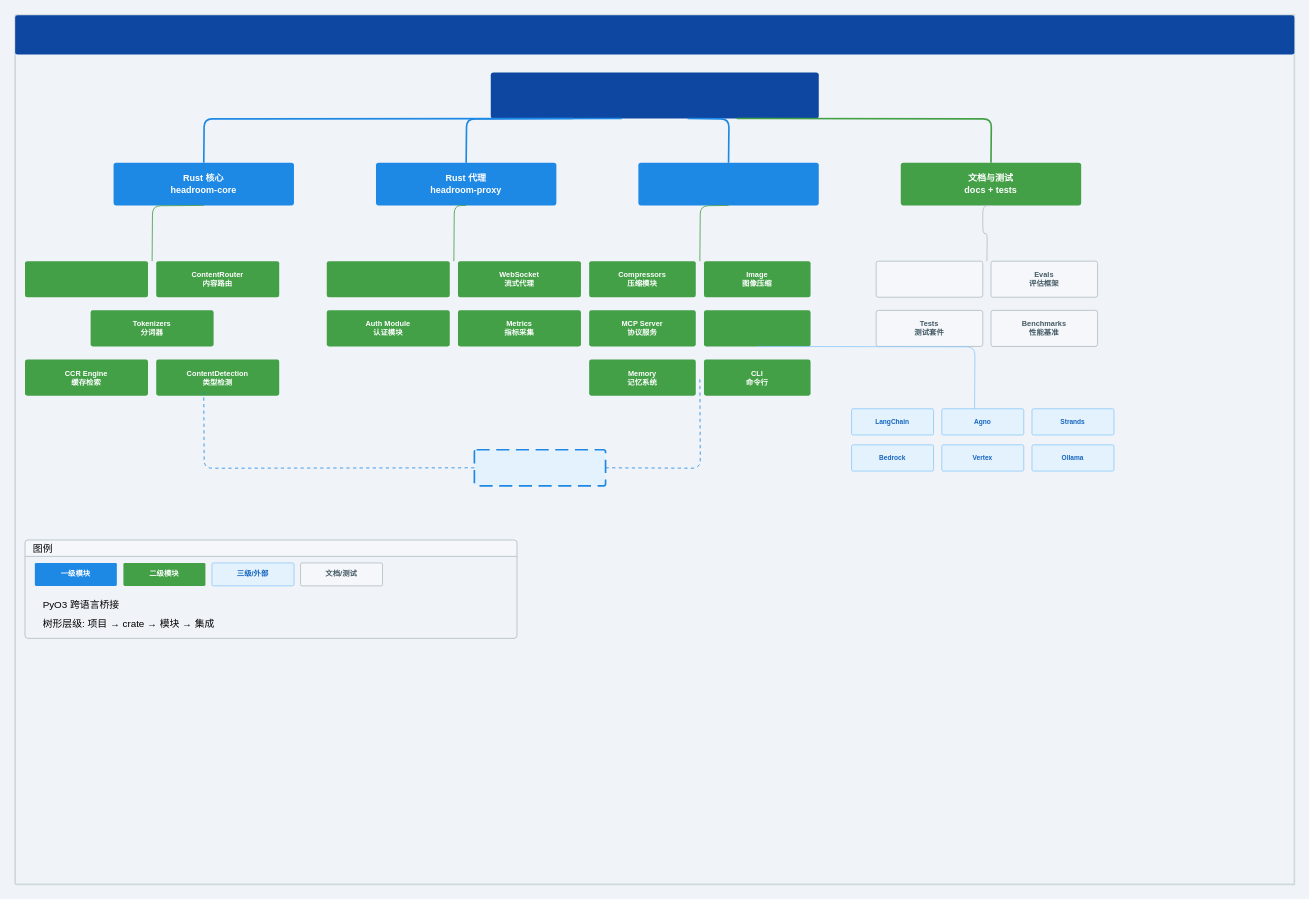
Image size: 1309x899. Some labels were removed from this diagram. The shapes that lost their labels are listed below. From the top down, each one's centre as x and y in pixels, then its label:
[654,34]: Headroom 项目组织架构
[654,95]: Headroom AI Context Optimization Layer
[728,183]: Python 包 headroom-ai
[86,279]: SmartCrusher 压缩引擎
[387,279]: HTTP Handler axum 路由
[929,278]: Architecture 架构文档
[757,328]: Integrations 框架集成
[539,467]: PyO3 Bridge (Rust ↔ Python)
